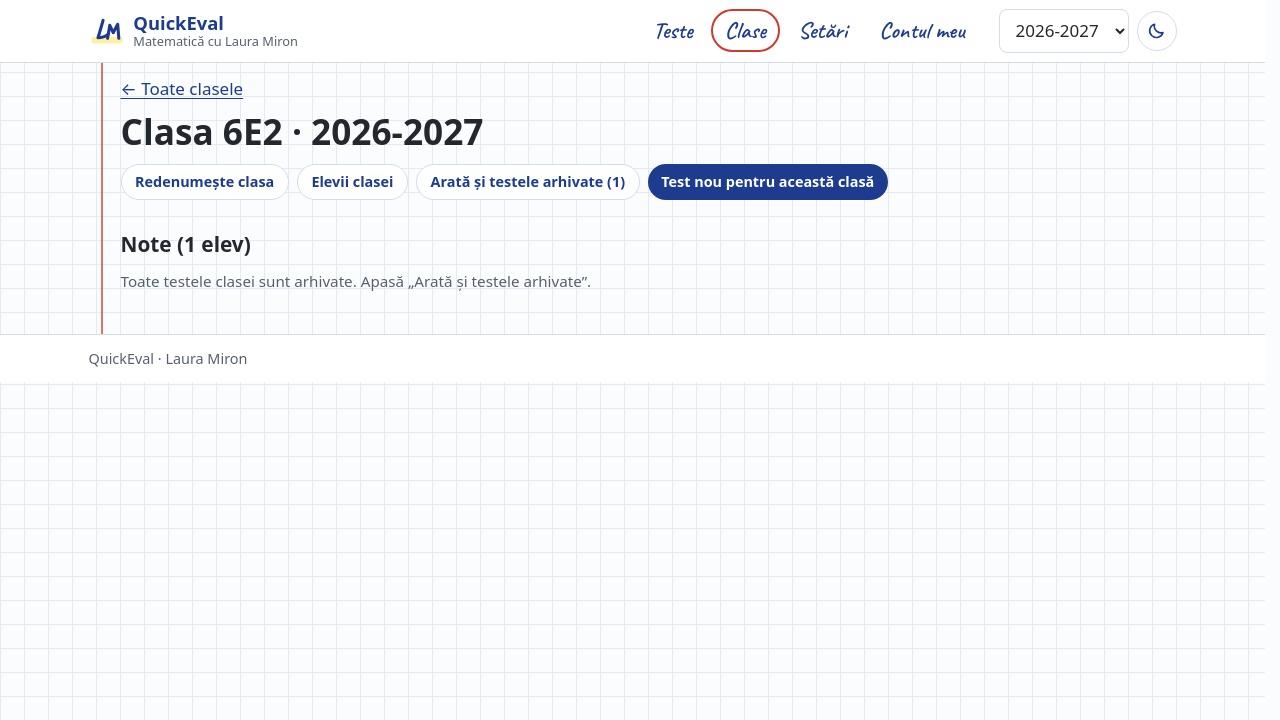
Test: ClassPage grade table › says so when every test is archived and the toggle is off
Check: the text "Toate testele clasei sunt arhivate" is shown, box [120, 271, 591, 291]
Click the button "Arată și testele arhivate (1)" at x=528, y=182, box [416, 164, 640, 200]
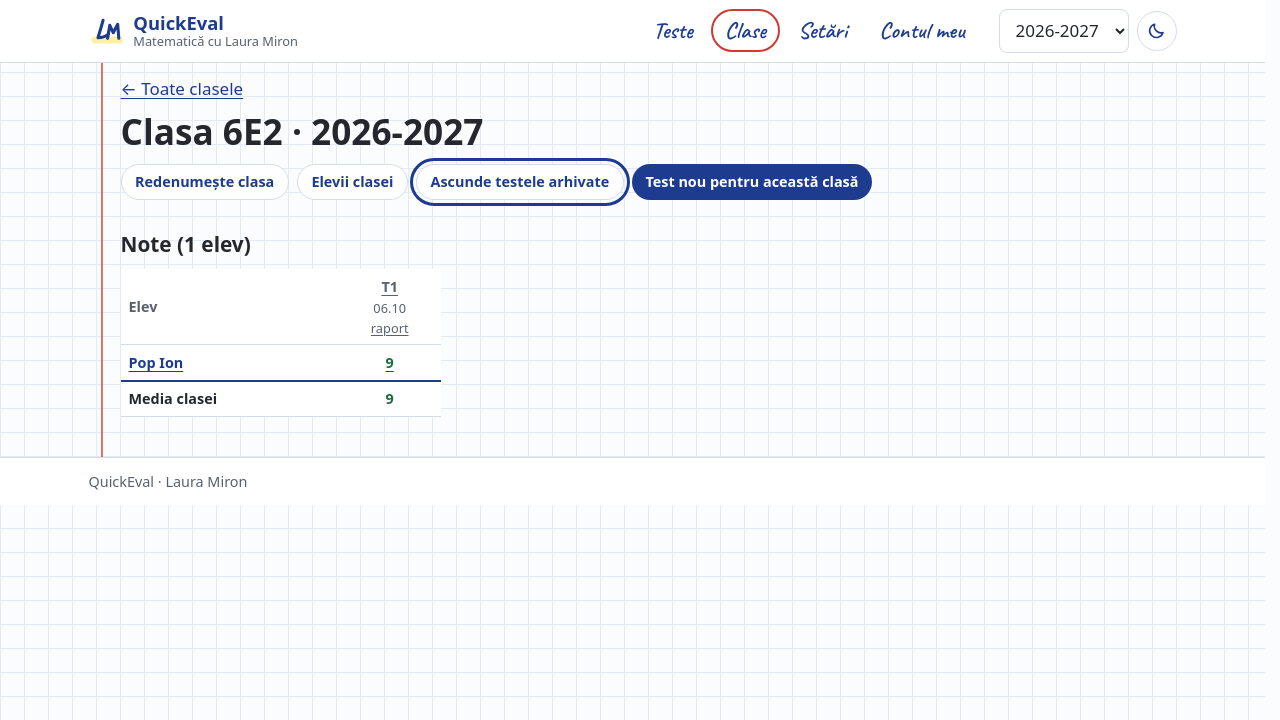
Check: the table is shown, box [120, 269, 440, 417]
